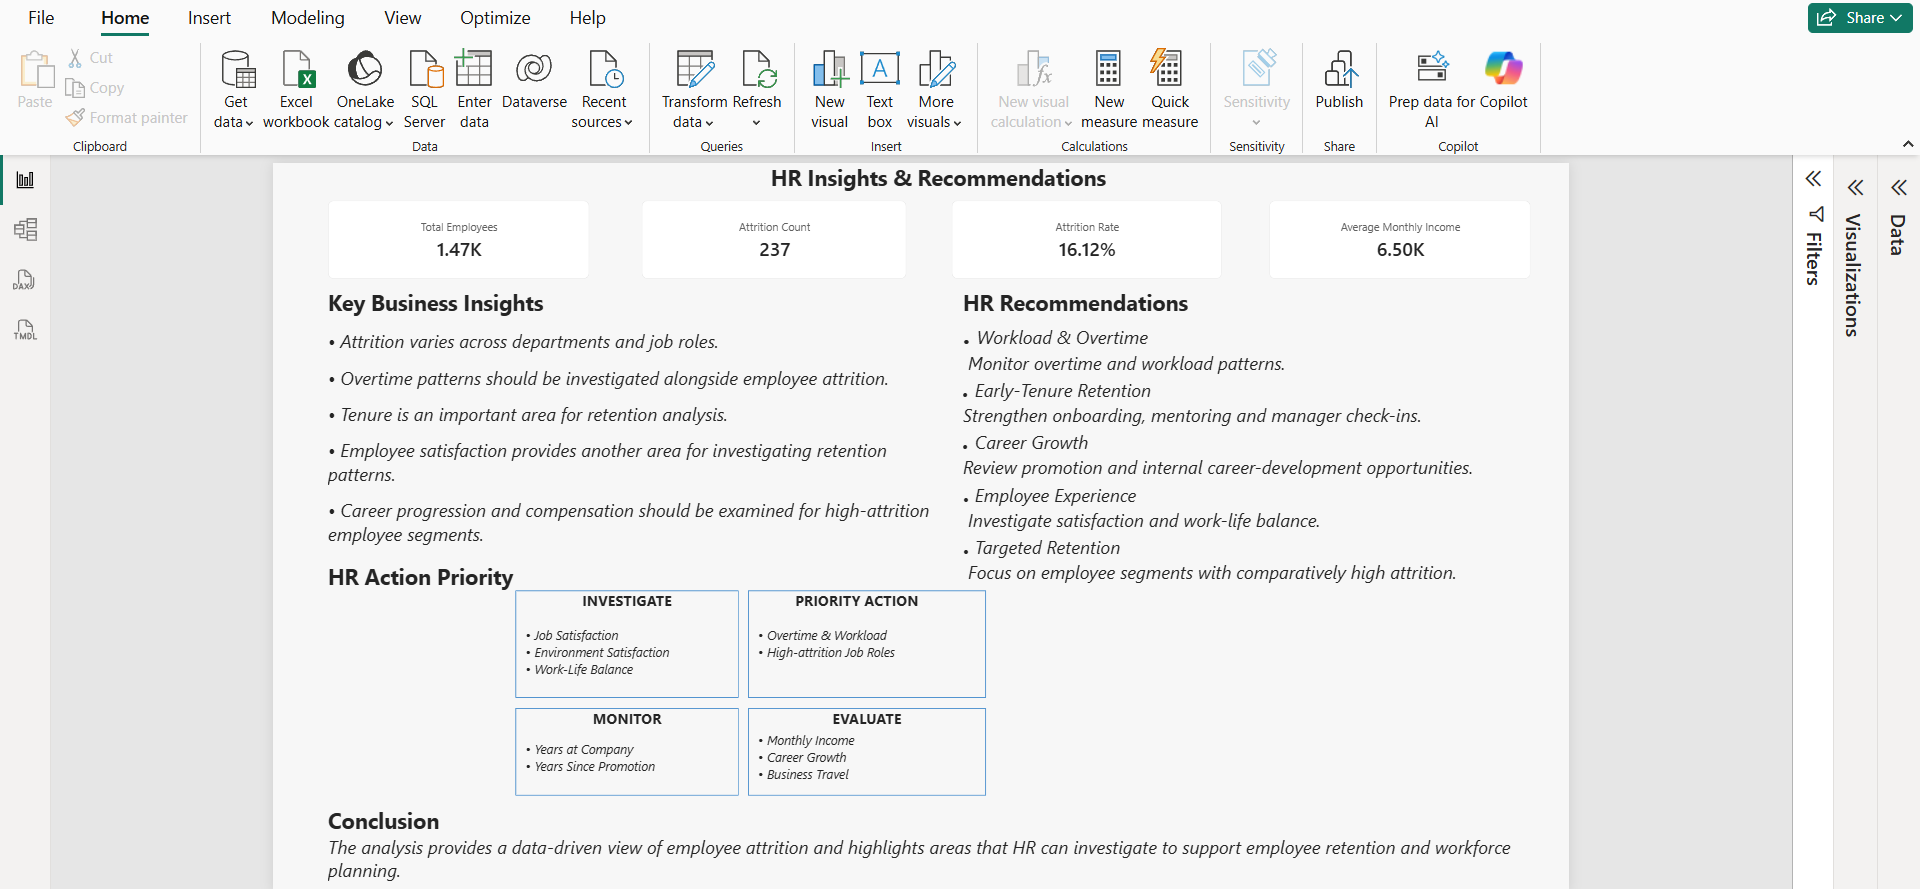

Layout of this report page (visuals, bound fields, positions):
{"tool":"powerbi","page":{"name":"HR Recommendation & Bussiness Insights","canvas":[1920,1080],"ordinal":4},"visuals":[{"type":"textbox","box":[9.1,0,1911.2,109.6],"z":0},{"type":"cardVisual","fields":{"Data":["public hr_employee_attrition.Total Employees"]},"box":[82.2,54.8,387.4,116.9],"z":1},{"type":"cardVisual","fields":{"Data":["public hr_employee_attrition.Attrition Count"]},"box":[546.3,54.8,392.8,116.9],"z":2},{"type":"cardVisual","fields":{"Data":["public hr_employee_attrition.Attrition Rate"]},"box":[1005,54.8,400.2,116.9],"z":3},{"type":"cardVisual","fields":{"Data":["public hr_employee_attrition.Average Monthly Income"]},"box":[1476.4,54.8,387.4,116.9],"z":4},{"type":"textbox","box":[82.2,184.5,922.7,405.6],"z":5},{"type":"textbox","box":[1021.4,184.5,787.5,707.1],"z":6},{"type":"textbox","box":[82.2,952,1781.5,127.9],"z":7},{"type":"textbox","box":[82.2,590.2,555.5,347.2],"z":8},{"type":"shape","box":[360,634,330.7,159],"z":9},{"type":"shape","box":[360,807.6,330.7,129.7],"z":11},{"type":"shape","box":[703.5,807.6,352.6,129.7],"z":12},{"type":"textbox","box":[674.2,634,381.9,34.7],"z":13},{"type":"textbox","box":[360,634,330.7,34.7],"z":14},{"type":"textbox","box":[360,807.6,330.7,34.7],"z":15},{"type":"textbox","box":[703.5,807.6,352.6,34.7],"z":16},{"type":"shape","box":[703.5,634,352.6,159],"z":17},{"type":"textbox","box":[360,687,330.7,106],"z":18},{"type":"textbox","box":[703.5,687,352.6,106],"z":19},{"type":"textbox","box":[360,855.1,330.7,82.2],"z":20},{"type":"textbox","box":[703.5,842.3,352.6,95],"z":21}]}

Visuals, with their boxes on the page's 1920x1080 design canvas (x1, y1, x2, y2). These are canvas units, not pixel positions in the 1920x889 screenshot, which may show the page scaled, cropped or inside an application window:
textbox: (9, 0, 1920, 110)
cardVisual - public hr_employee_attrition.Total Employees: (82, 55, 470, 172)
cardVisual - public hr_employee_attrition.Attrition Count: (546, 55, 939, 172)
cardVisual - public hr_employee_attrition.Attrition Rate: (1005, 55, 1405, 172)
cardVisual - public hr_employee_attrition.Average Monthly Income: (1476, 55, 1864, 172)
textbox: (82, 184, 1005, 590)
textbox: (1021, 184, 1809, 892)
textbox: (82, 952, 1864, 1080)
textbox: (82, 590, 638, 937)
shape: (360, 634, 691, 793)
shape: (360, 808, 691, 937)
shape: (704, 808, 1056, 937)
textbox: (674, 634, 1056, 669)
textbox: (360, 634, 691, 669)
textbox: (360, 808, 691, 842)
textbox: (704, 808, 1056, 842)
shape: (704, 634, 1056, 793)
textbox: (360, 687, 691, 793)
textbox: (704, 687, 1056, 793)
textbox: (360, 855, 691, 937)
textbox: (704, 842, 1056, 937)
